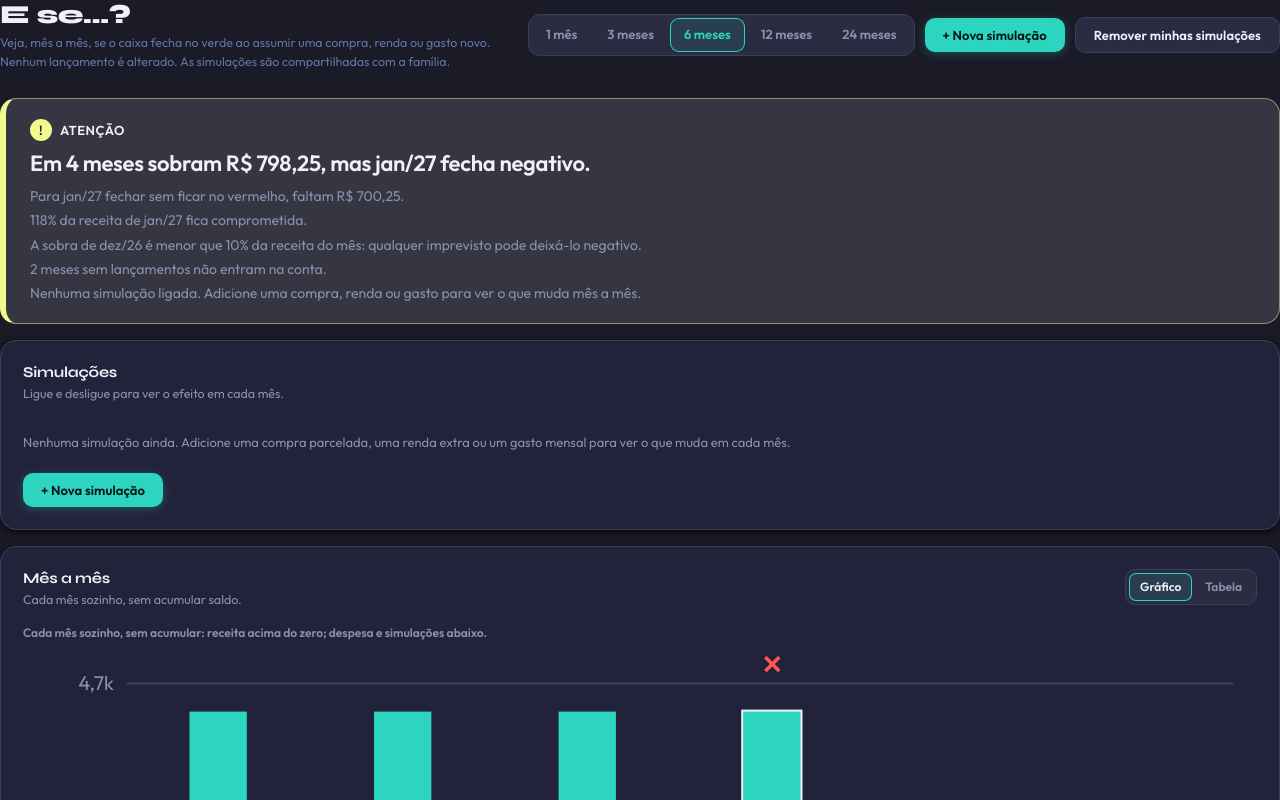
it: SimulatorView: meses sem lançamentos › ficam de fora do veredito, que diz quantos; a tabela os mostra como "Sem lançamentos"
What coordinates should you click on to do the following:
click the button "Tabela"
I would click on:
 (1224, 587)
Its box is [1194,573,1253,601].
(page scrolled)
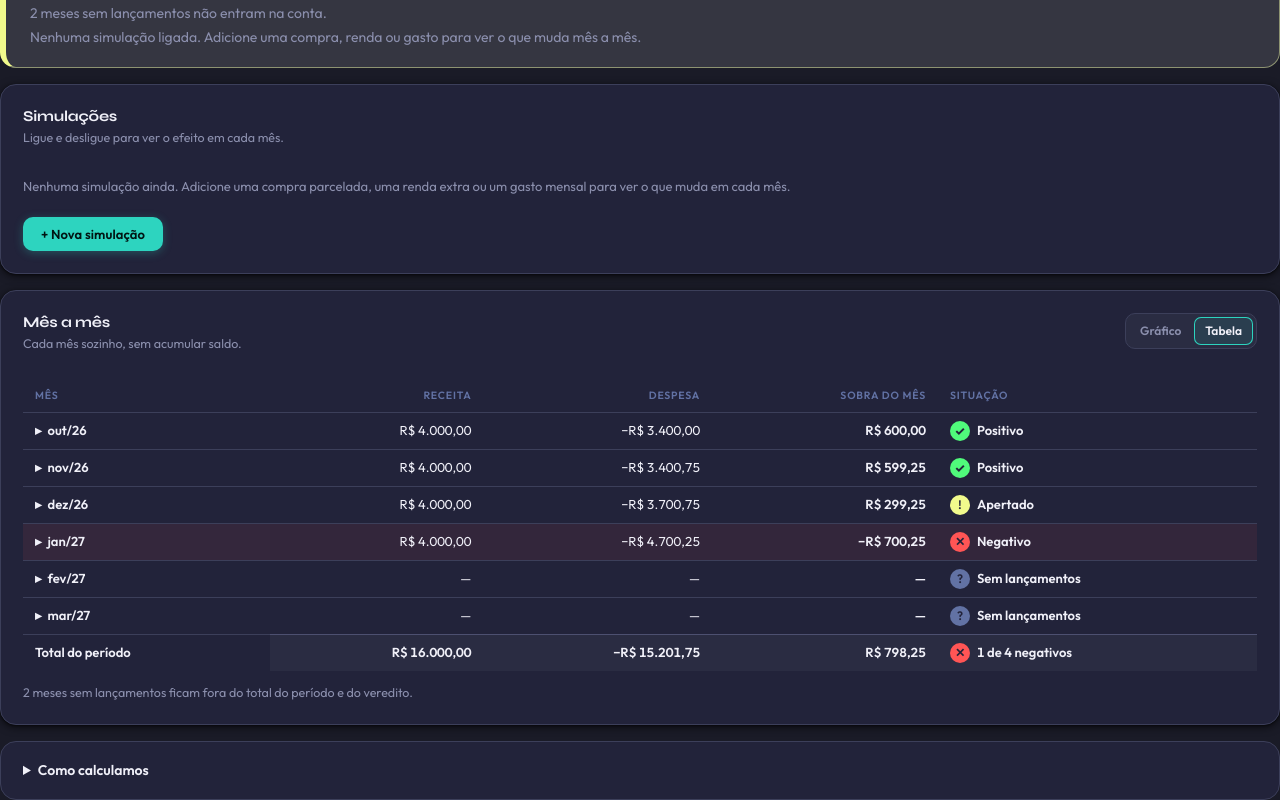
Expected: the row "▸ fev/27 — — — ? Sem lançamentos" is shown, [23,561,1257,598]
Expected: the row that starts with "Total do período" is shown, [35,644,131,660]
